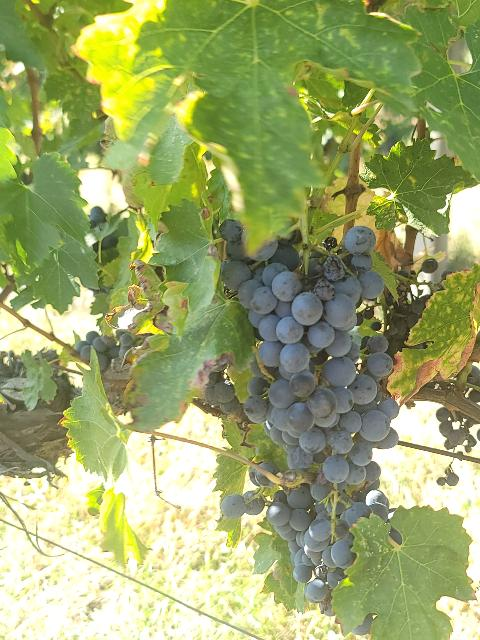grapes: (221, 228, 399, 459), (266, 485, 371, 614)
